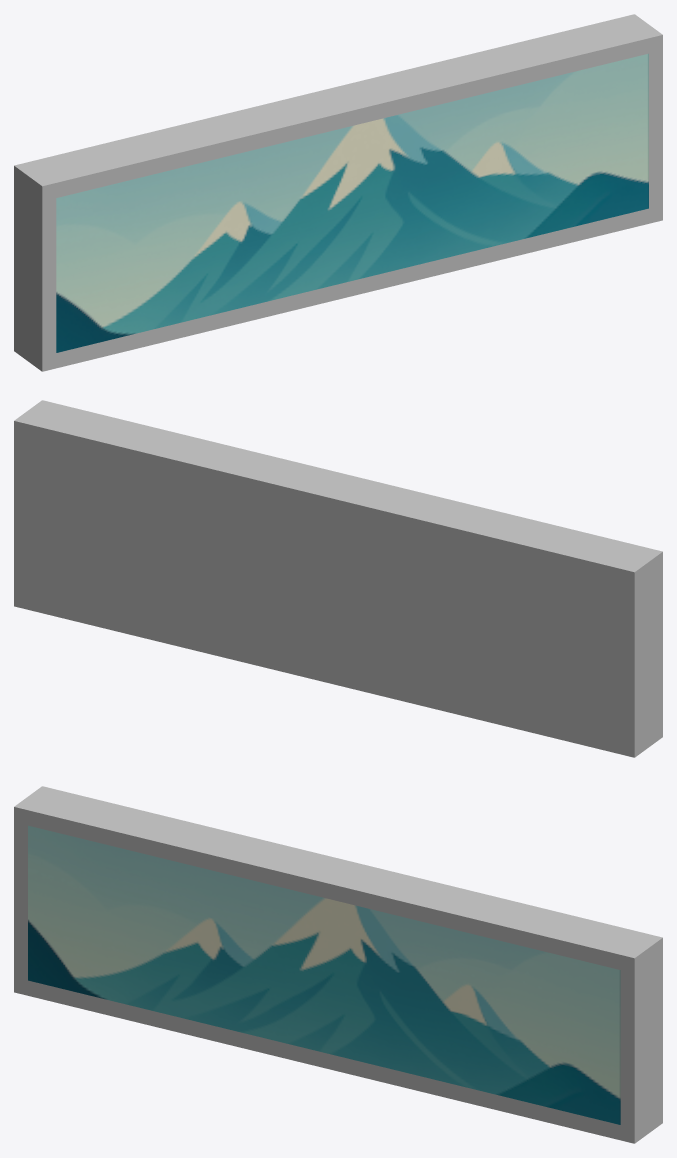
Rendered from Billboard_4x1_03.fbx.
3 views of the same model, one above another, from view 1: azimuth 30°, elevation 25°; view 2: azimuth 150°, elevation 25°; view 3: azimuth 330°, elevation 25° (orthographic).
Visible parts, largest first — view 1: Billboard_4x1_03; view 2: Billboard_4x1_03; view 3: Billboard_4x1_03.
Part boxes in pixels (<box>): Billboard_4x1_03: <box>14,14,662,371</box>; Billboard_4x1_03: <box>14,400,662,757</box>; Billboard_4x1_03: <box>14,786,662,1143</box>.
Bounding box in the file's own units: 962 × 75.97 × 275.
